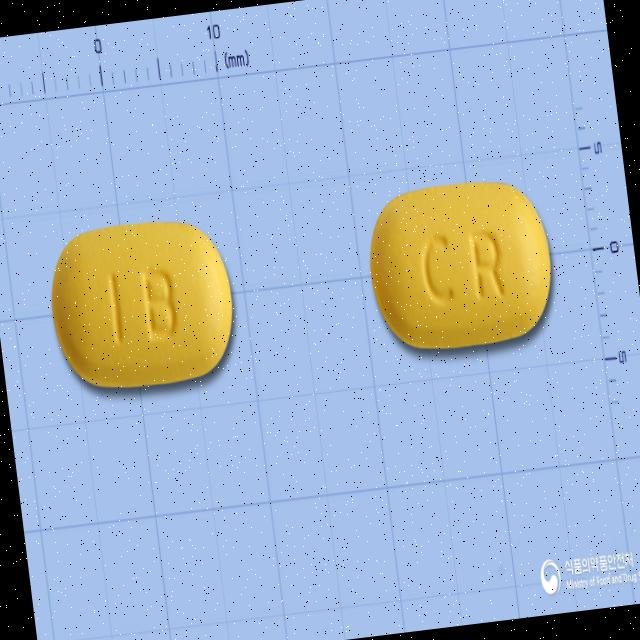Clacin -500mg: (358, 168, 567, 364), (41, 207, 247, 402)
